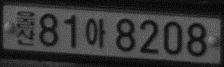0: (162, 20, 183, 55)
1: (61, 14, 82, 49)
2: (138, 19, 159, 53)
8: (185, 22, 206, 57), (114, 17, 135, 51), (38, 12, 58, 47)
아: (85, 17, 106, 48)
울산_V: (15, 10, 36, 46)
